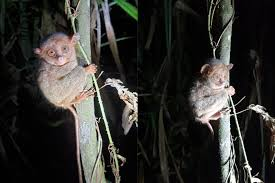tarsier: (32, 31, 99, 112), (191, 58, 235, 133)
